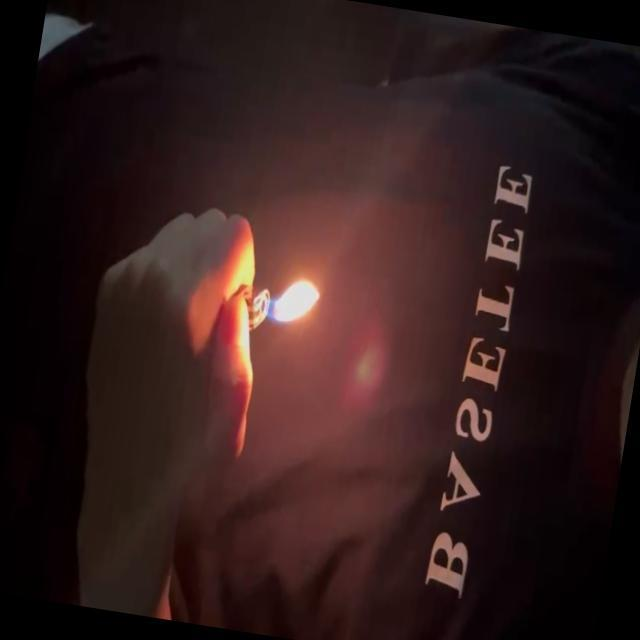Fire: (259, 269, 325, 335)
